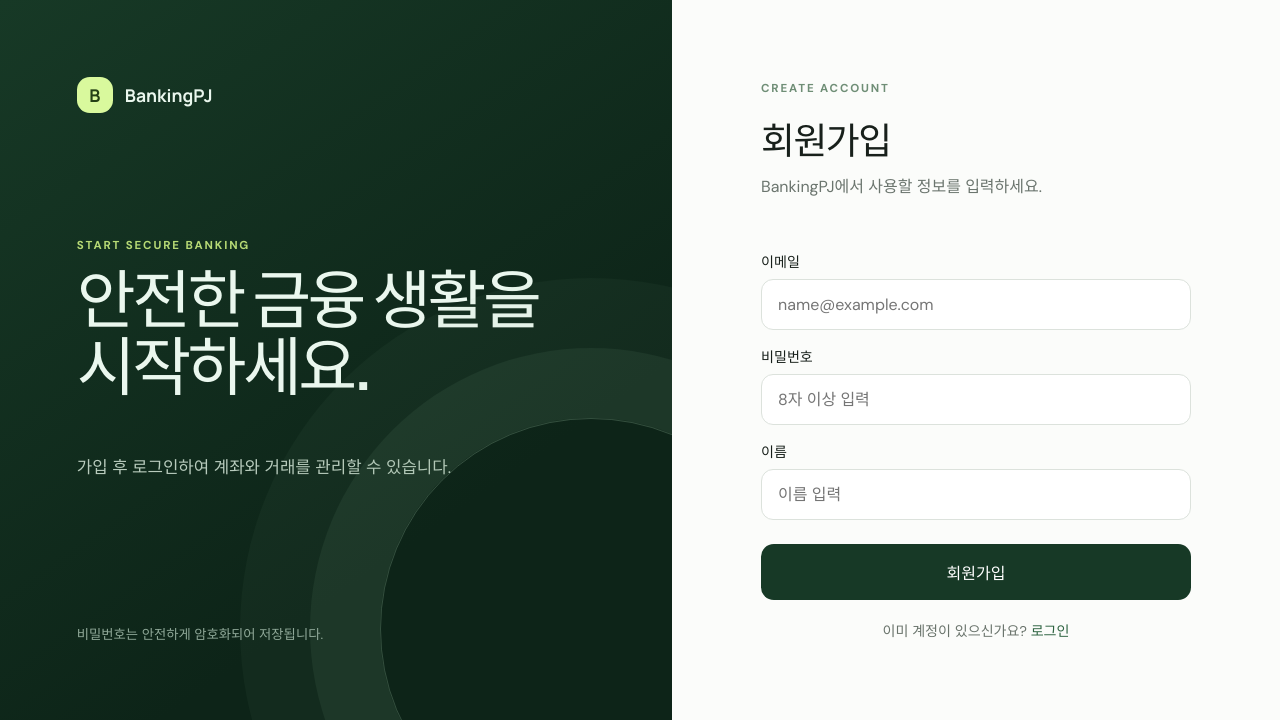
Frontend 회원가입 흐름 › email 형식을 검증한다
Type "invalid-email" into the field labelled "이메일" at (976, 304), box [761,279,1191,330]
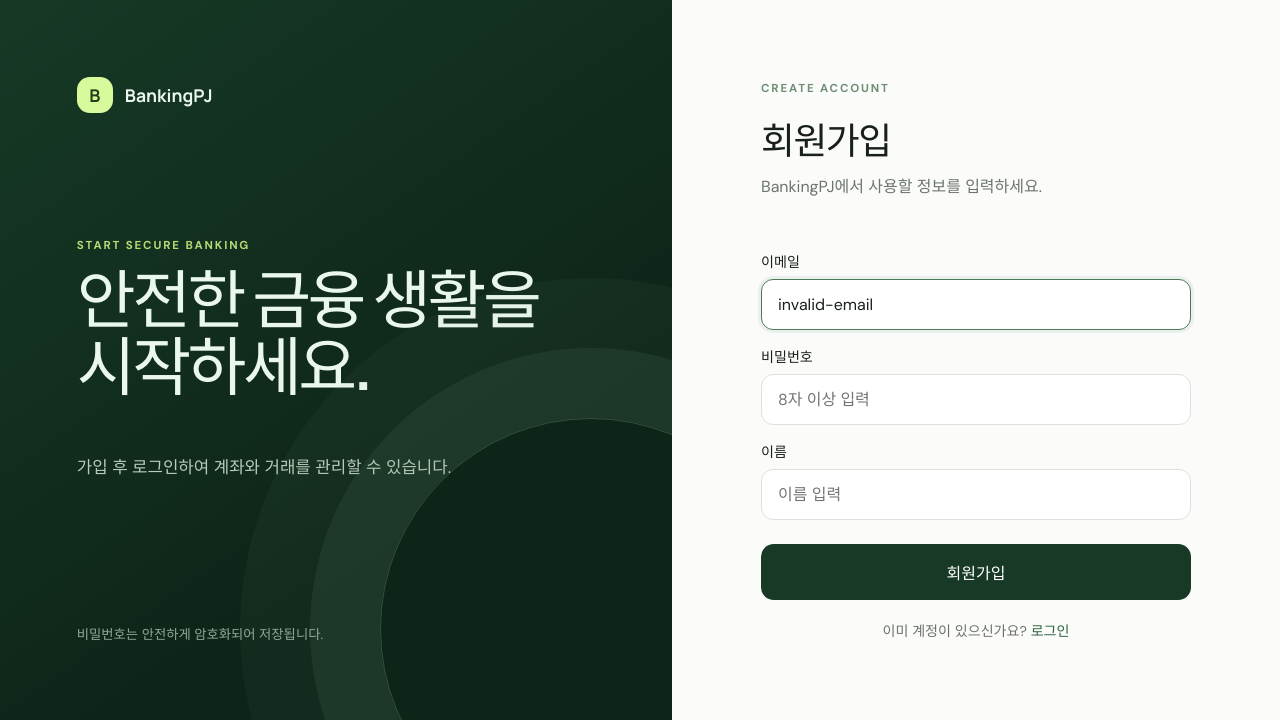
Type "password123!" into the password field labelled "비밀번호" at (976, 400), box [761,374,1191,425]
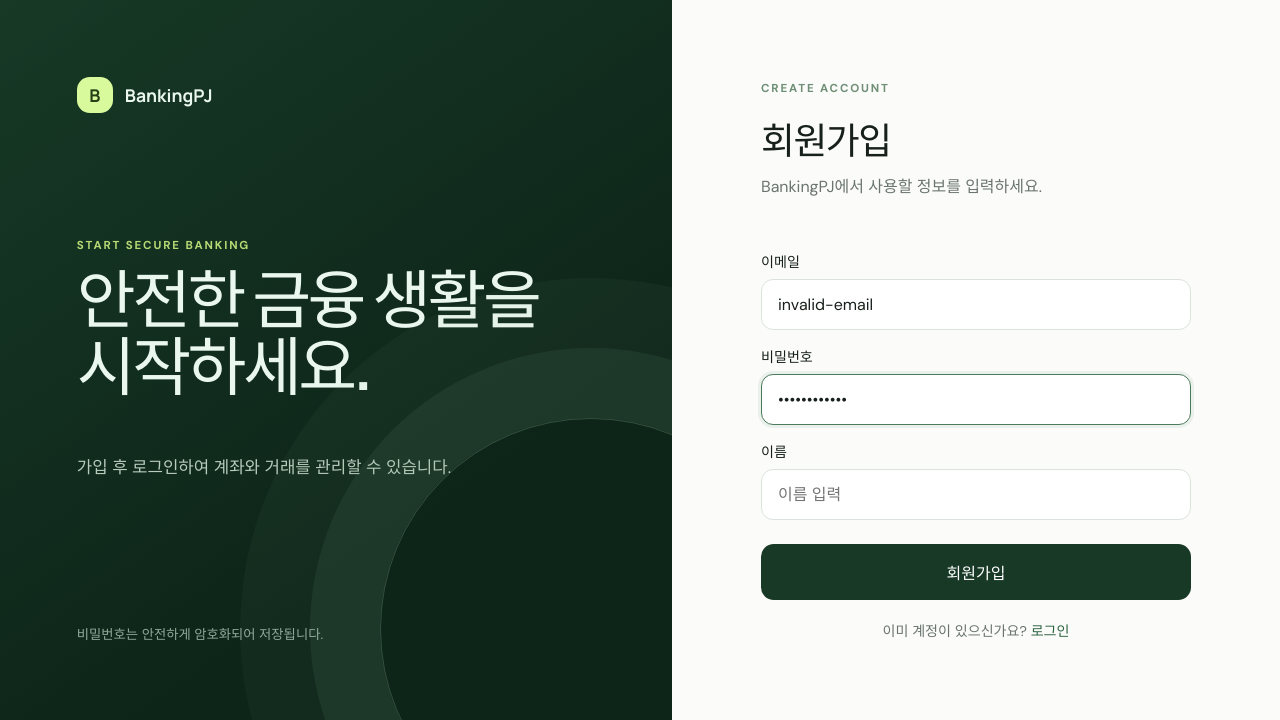
Type "홍길동" into the field labelled "이름" at (976, 494), box [761,468,1191,520]
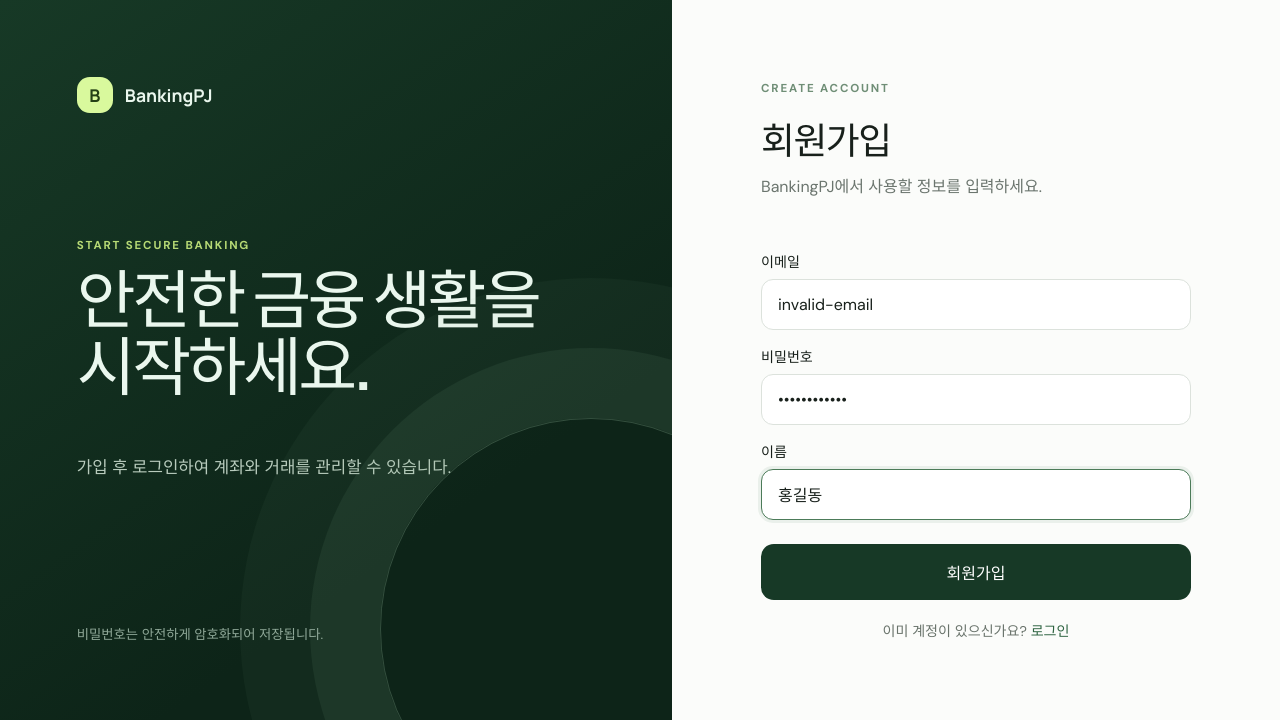
Click the button "회원가입" at (976, 572), box [761,544,1191,600]
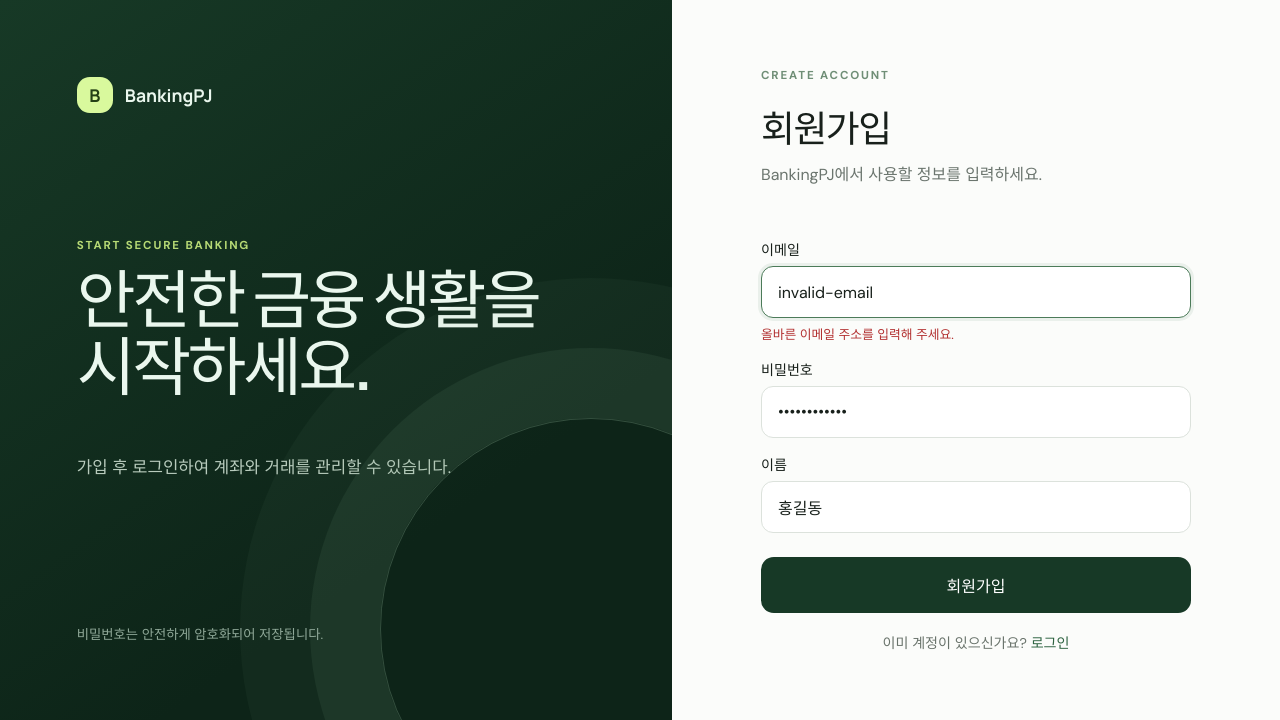
expect the text "올바른 이메일 주소를 입력해 주세요." is shown: met, box [761,326,954,343]
